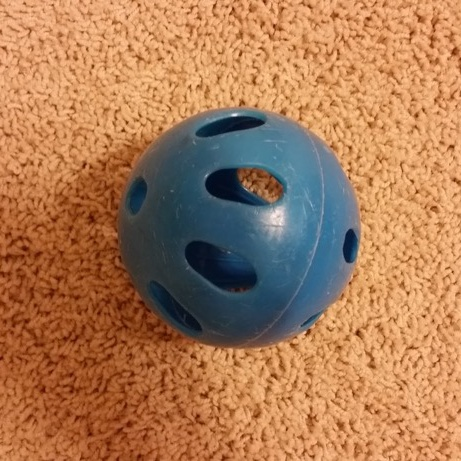ball: (112, 102, 367, 355)
